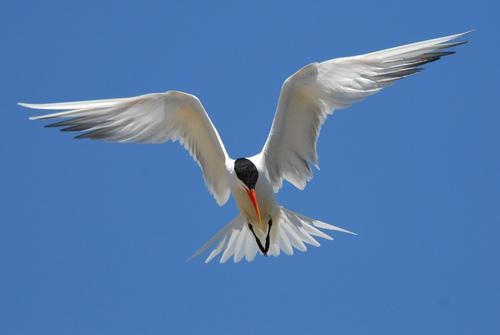bird: (15, 27, 476, 269)
